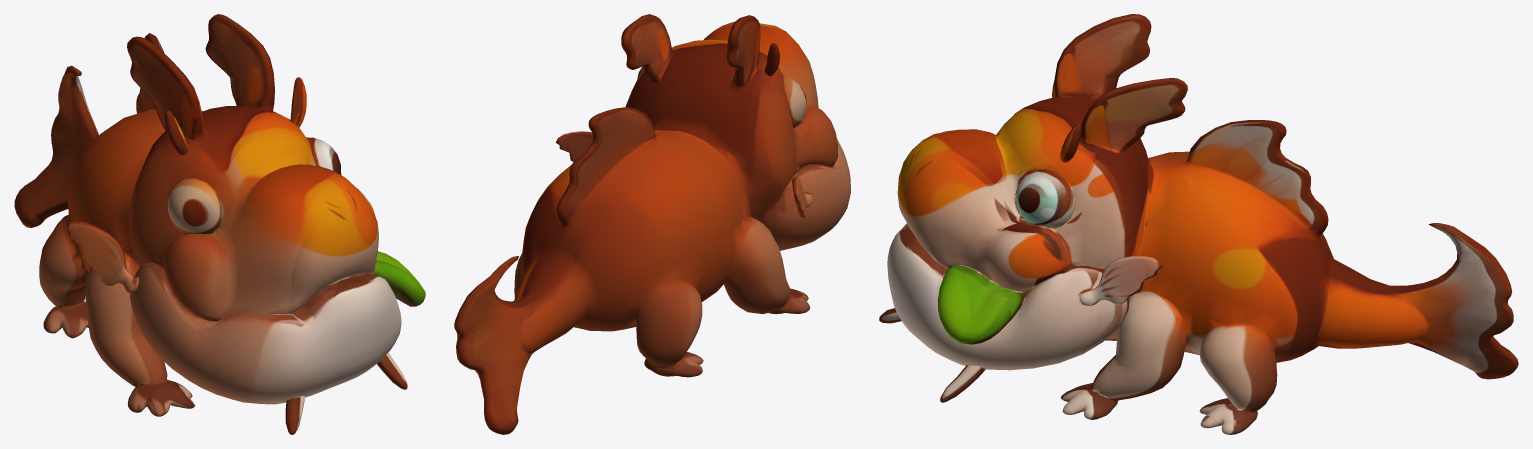
Rendered from wolf-aquatic.glb.
3 views of the same model, side by side, from view 1: azimuth 30°, elevation 25°; view 2: azimuth 150°, elevation 25°; view 3: azimuth 270°, elevation 25° (orthographic). The views are drawn at different scales.
Visible parts, largest first — view 1: tripo_3ea16f28_6971_4e1c_b4fb_9b6a63a45290; view 2: tripo_3ea16f28_6971_4e1c_b4fb_9b6a63a45290; view 3: tripo_3ea16f28_6971_4e1c_b4fb_9b6a63a45290.
Boxes of the visible parts, left/top/right/bottom form: tripo_3ea16f28_6971_4e1c_b4fb_9b6a63a45290: left=14, top=14, right=425, bottom=434; tripo_3ea16f28_6971_4e1c_b4fb_9b6a63a45290: left=454, top=14, right=850, bottom=434; tripo_3ea16f28_6971_4e1c_b4fb_9b6a63a45290: left=879, top=14, right=1518, bottom=434.
Size of the model in its own units: 0.4702 by 0.5718 by 0.9995.
1 material, 1 textured.
